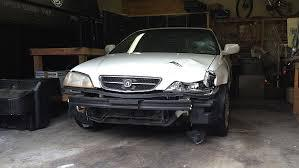Headlight-Damage: (166, 72, 218, 97)
bonnet-dent: (135, 42, 217, 78)
